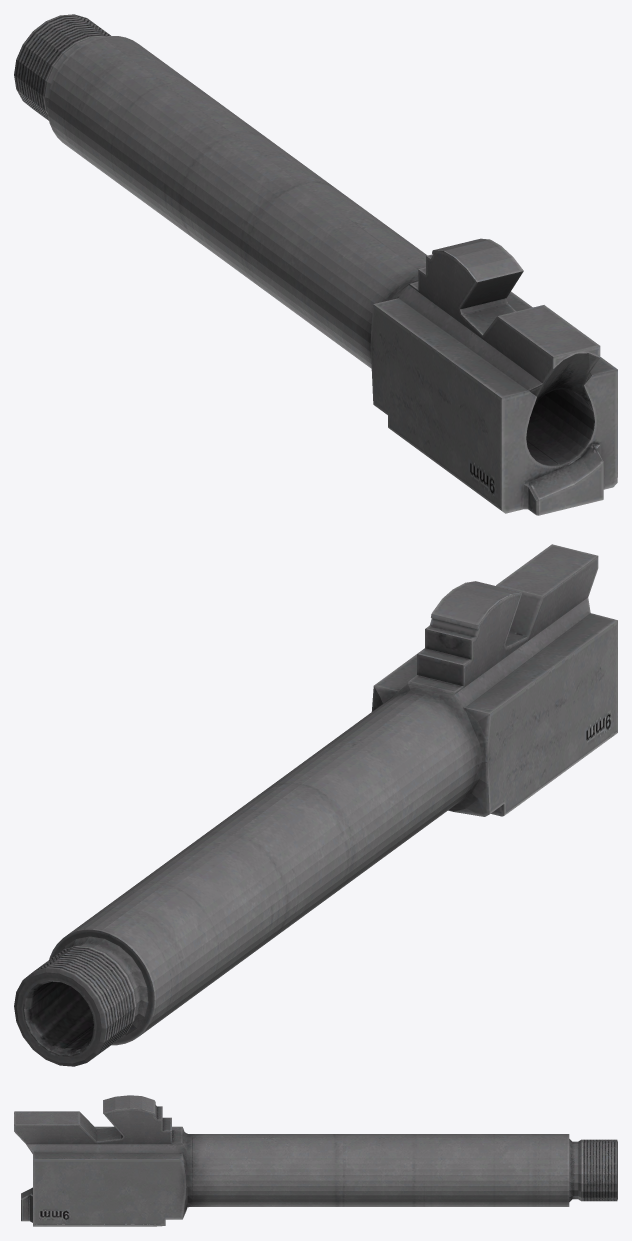
The picture shows the model from 3 angles, top to bottom: view 1: azimuth 30°, elevation 25°; view 2: azimuth 150°, elevation 25°; view 3: azimuth 270°, elevation 25°; orthographic projection. The views are drawn at different scales.
Parts seen in each view (by area): view 1: TW_5a6b5e468dc32e001207faf5_PZ_Import; view 2: TW_5a6b5e468dc32e001207faf5_PZ_Import; view 3: TW_5a6b5e468dc32e001207faf5_PZ_Import.
Boxes of the visible parts, box(x1,y1,x2,y2) form: TW_5a6b5e468dc32e001207faf5_PZ_Import: box(14, 14, 617, 515); TW_5a6b5e468dc32e001207faf5_PZ_Import: box(14, 544, 617, 1066); TW_5a6b5e468dc32e001207faf5_PZ_Import: box(14, 1095, 617, 1226).
Size of the model in its own units: 0.00933 by 0.0718 by 0.0144.
1 material, 1 textured.
